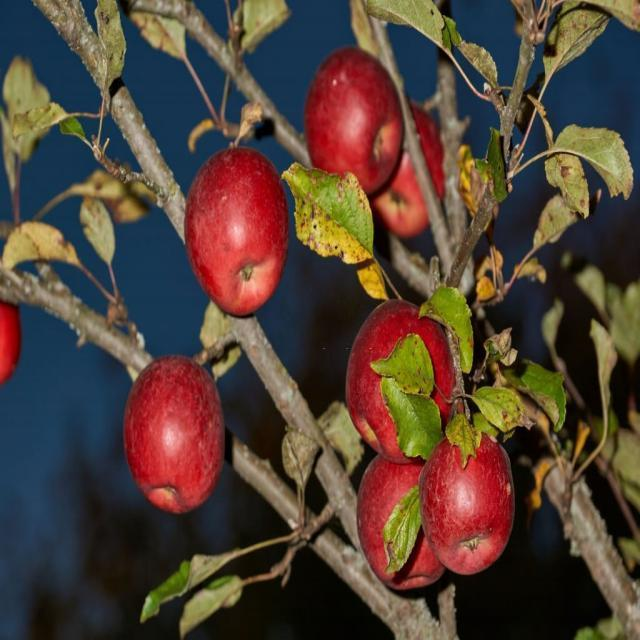Red Apple: (186, 155, 288, 309), (123, 360, 223, 517), (356, 301, 458, 450), (430, 422, 521, 572), (313, 48, 406, 180), (358, 452, 447, 585), (381, 100, 446, 223), (1, 283, 25, 374)
